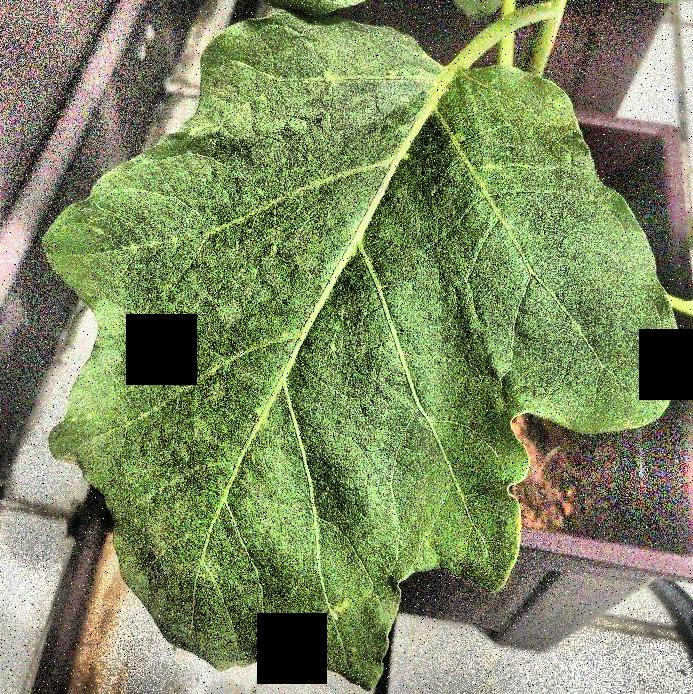HEALTHY: (1, 0, 693, 694)
